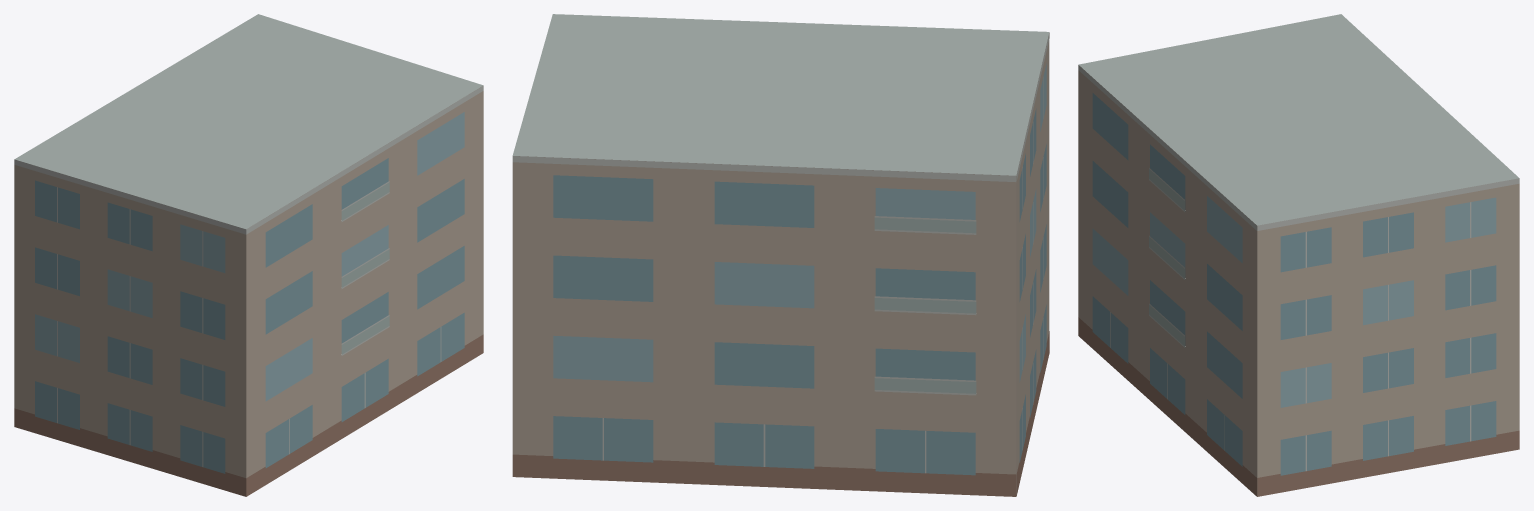
File: survey-upis-32772414.glb
3 views of the same model, side by side, from view 1: azimuth 30°, elevation 25°; view 2: azimuth 150°, elevation 25°; view 3: azimuth 270°, elevation 25° (orthographic). The views are drawn at different scales.
Parts seen in each view (by area): view 1: survey-upis-32772414.tmp; view 2: survey-upis-32772414.tmp; view 3: survey-upis-32772414.tmp.
Boxes of the visible parts, <box> form: survey-upis-32772414.tmp: <box>14,14,483,496</box>; survey-upis-32772414.tmp: <box>512,14,1049,496</box>; survey-upis-32772414.tmp: <box>1078,14,1519,496</box>.
Bounding box in the file's own units: 20.43 × 12.2 × 18.
